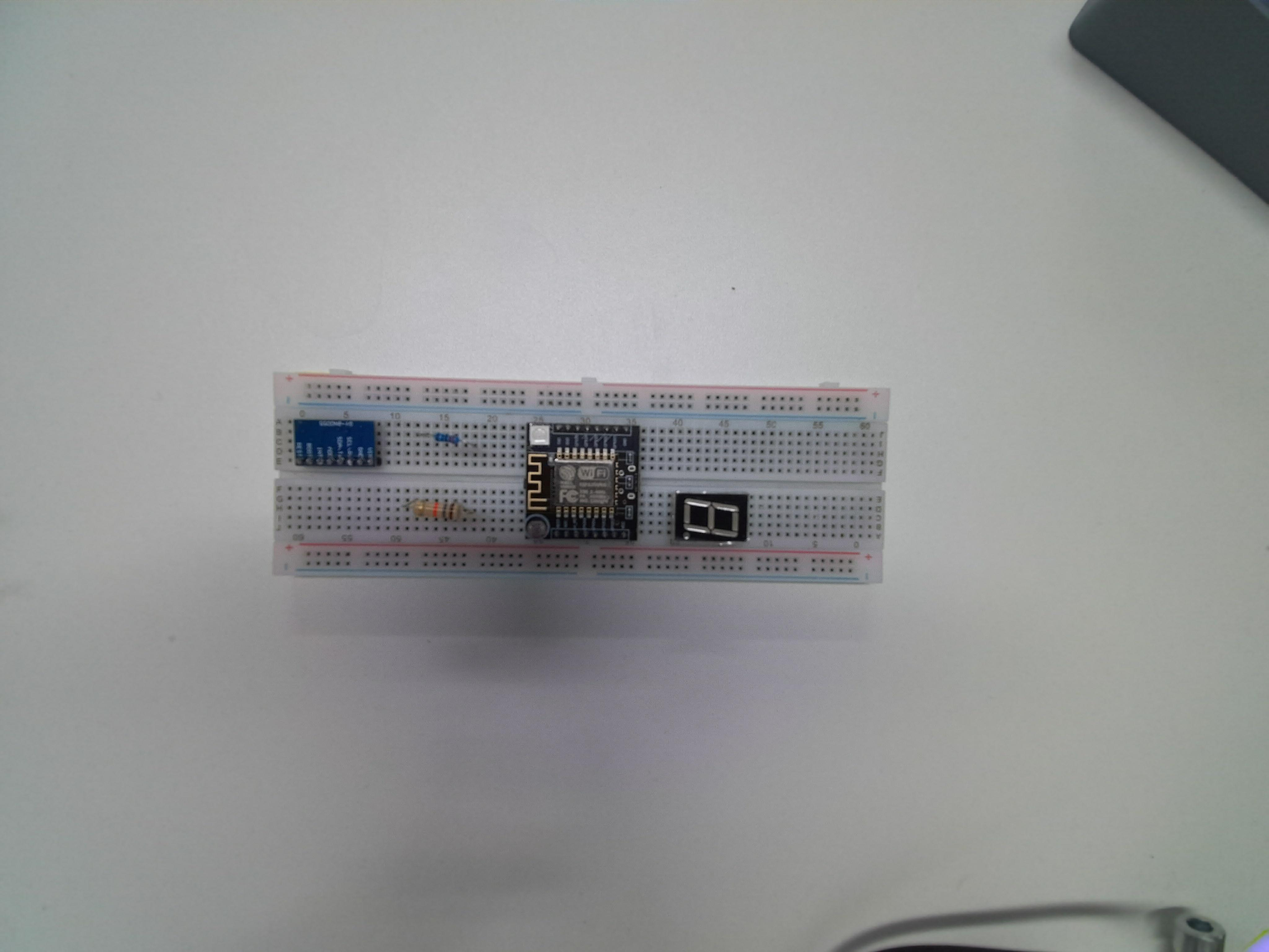base: (269, 371, 892, 587)
blue-board: (293, 416, 378, 470)
digit-board: (670, 490, 749, 544)
esp: (523, 421, 640, 544)
resistor-big: (410, 499, 474, 521)
resistor-small: (434, 426, 462, 446)
